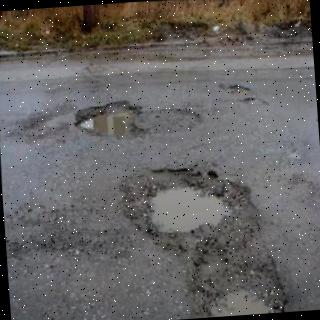pothole: (118, 168, 285, 318), (74, 101, 201, 140), (220, 84, 251, 96), (242, 96, 268, 106)
